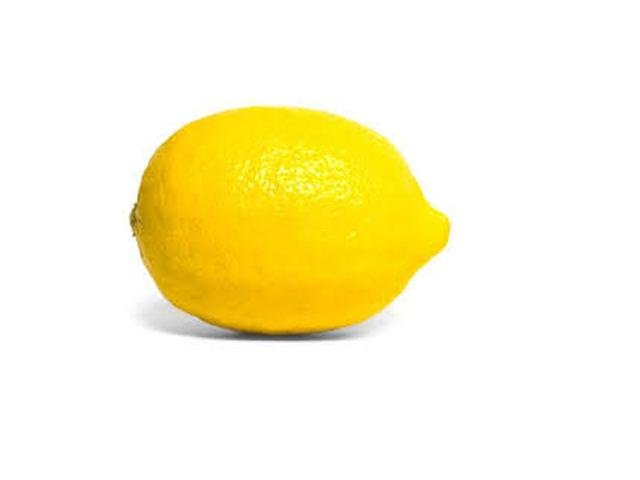lemon: (113, 111, 460, 333)
